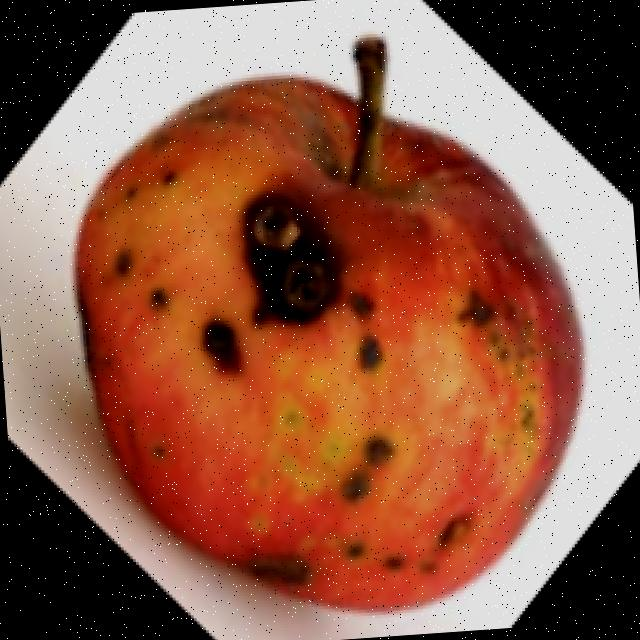Rotten: (53, 49, 604, 634)
